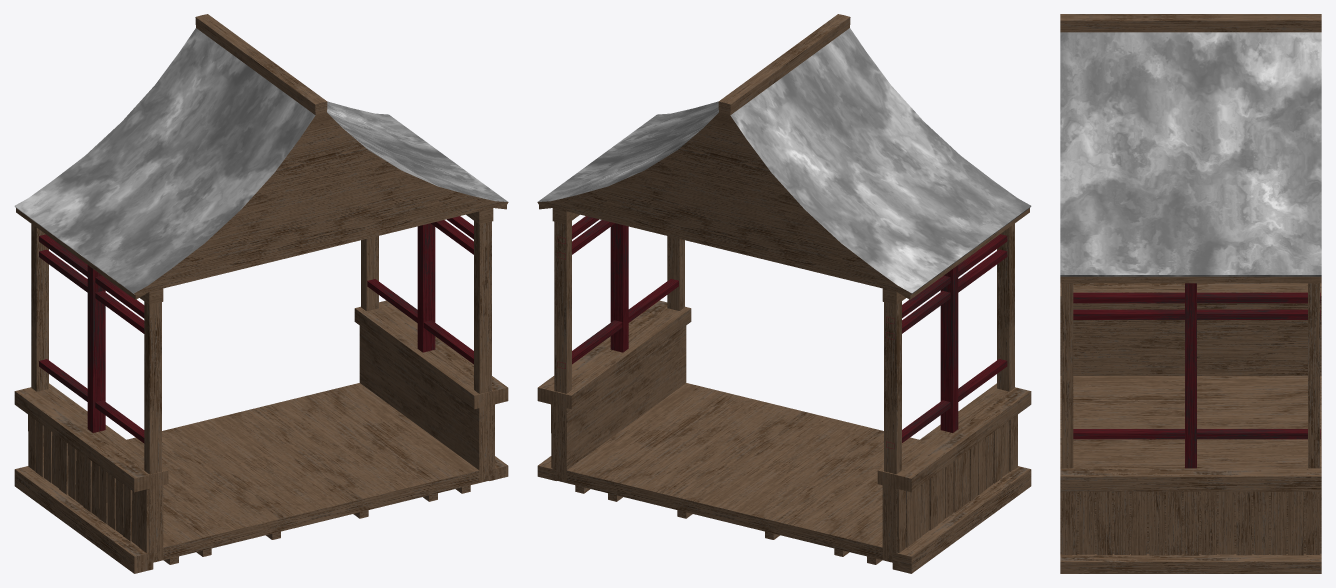
The model's file is SM_foot_bridge_01.fbx.
3 renders of one model, left to right at view 1: azimuth 30°, elevation 25°; view 2: azimuth 150°, elevation 25°; view 3: azimuth 270°, elevation 25°, orthographic. The views are drawn at different scales.
Parts seen in each view (by area): view 1: SM_foot_bridge_01; view 2: SM_foot_bridge_01; view 3: SM_foot_bridge_01.
Part boxes in pixels (x1,y1,x2,y2): SM_foot_bridge_01: (14,14,508,573); SM_foot_bridge_01: (537,14,1031,573); SM_foot_bridge_01: (1060,14,1321,573).
Bounding box in the file's own units: 542 × 300 × 589.
Materials: 3 (3 with a texture image).
